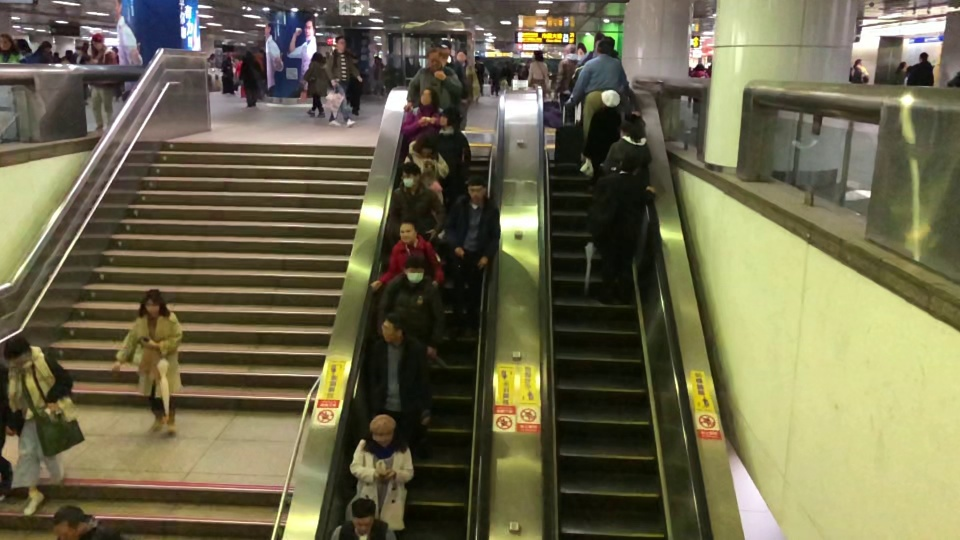person_head: (48, 501, 102, 537), (137, 288, 170, 318), (4, 333, 31, 366), (369, 413, 395, 446), (351, 499, 374, 534), (618, 113, 644, 142), (381, 314, 402, 346), (466, 172, 486, 205), (414, 130, 437, 157), (398, 220, 420, 246), (405, 256, 425, 284), (402, 161, 422, 188), (419, 88, 439, 112), (595, 39, 618, 59), (620, 152, 640, 174), (438, 106, 458, 126), (600, 88, 620, 108), (427, 49, 443, 72), (90, 33, 106, 50), (0, 33, 13, 50), (455, 46, 468, 63), (309, 52, 323, 66), (562, 43, 577, 56), (336, 34, 346, 49), (533, 50, 544, 61), (897, 60, 907, 70), (919, 51, 928, 62), (854, 57, 863, 67)
person_vbox: (0, 330, 69, 517), (589, 149, 656, 306), (445, 170, 500, 341), (375, 255, 445, 382), (566, 40, 631, 174), (349, 410, 415, 538), (361, 312, 424, 441), (369, 218, 446, 310), (112, 287, 183, 379), (579, 87, 625, 180), (402, 46, 463, 111), (387, 161, 441, 229), (601, 112, 652, 184), (327, 32, 363, 130), (45, 499, 123, 540), (401, 132, 450, 195), (328, 498, 396, 540), (85, 33, 113, 130), (435, 106, 472, 176), (401, 86, 449, 132), (554, 41, 580, 115), (302, 50, 328, 121), (443, 60, 478, 103), (240, 50, 261, 108), (527, 48, 550, 99), (691, 63, 709, 117), (908, 51, 935, 86), (847, 56, 872, 84), (219, 52, 234, 97), (488, 56, 503, 98), (236, 55, 250, 99), (110, 44, 120, 102), (371, 55, 385, 96), (0, 32, 20, 60), (892, 61, 909, 87), (71, 38, 86, 66), (36, 41, 53, 64), (474, 56, 483, 97), (18, 38, 31, 65), (516, 56, 526, 79), (706, 59, 713, 78)
